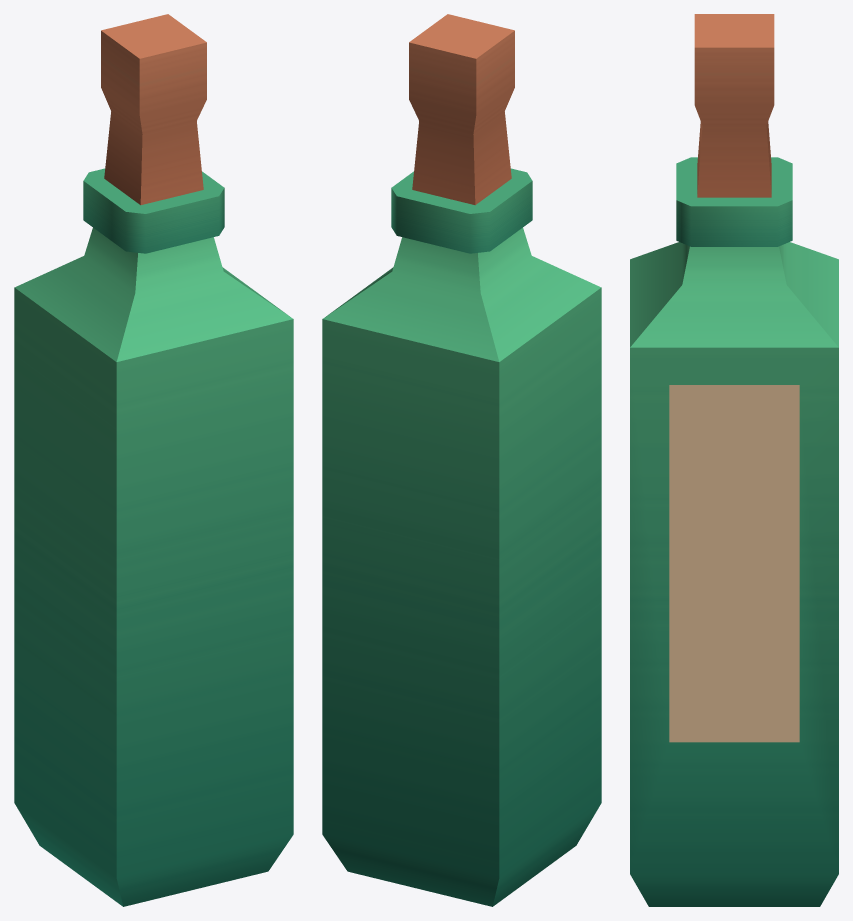
Rendered from cc0-bottle-oil-lod0.glb.
The picture shows the model from 3 angles, left to right: view 1: azimuth 30°, elevation 25°; view 2: azimuth 150°, elevation 25°; view 3: azimuth 270°, elevation 25°; orthographic projection. The views are drawn at different scales.
Parts seen in each view (by area): view 1: part_0; view 2: part_0; view 3: part_0.
Part boxes in pixels (<box>): part_0: <box>14,14,293,906</box>; part_0: <box>322,14,601,906</box>; part_0: <box>630,14,838,906</box>.
Size of the model in its own units: 0.14 by 0.6218 by 0.14.
Materials: 1 (1 with a texture image).
